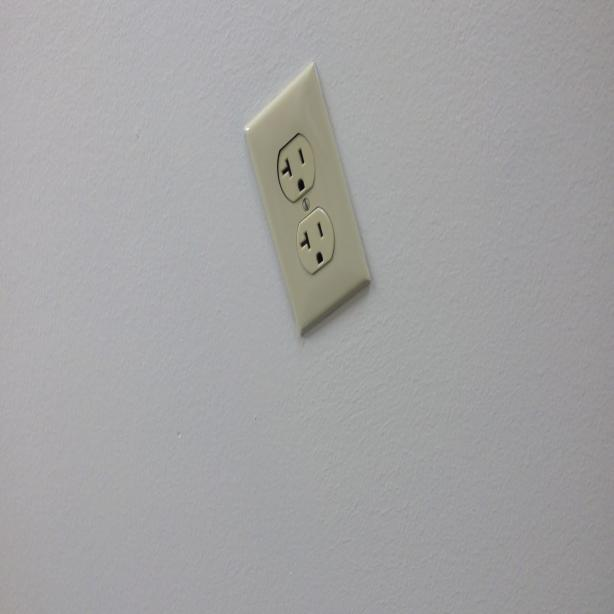typeb: (275, 130, 322, 200), (292, 212, 337, 264)
